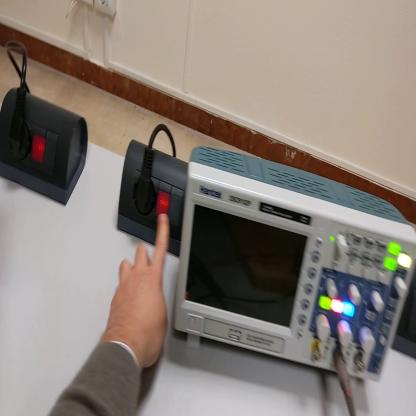hand: (104, 213, 171, 369)
oscilloscope: (173, 144, 416, 389)
socket: (1, 86, 95, 210), (117, 142, 199, 265)
